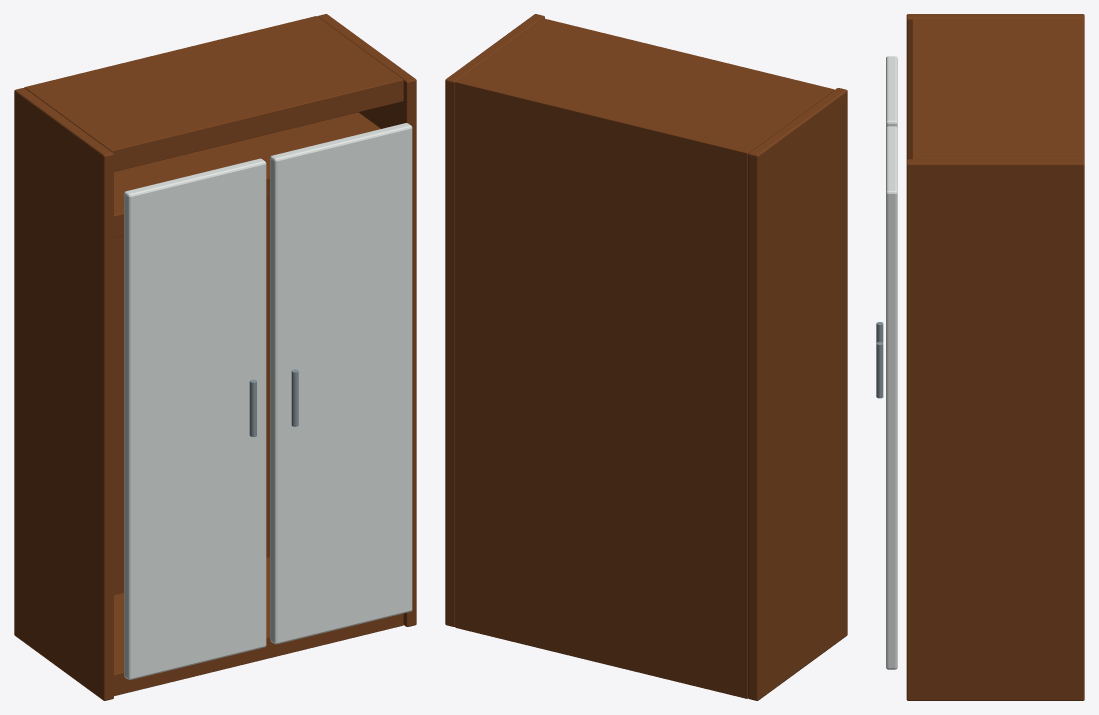
3 renders of one model, left to right at view 1: azimuth 30°, elevation 25°; view 2: azimuth 150°, elevation 25°; view 3: azimuth 270°, elevation 25°, orthographic.
Visible parts, largest first — view 1: DOOR_Panel.001, DOOR_Panel, BODY_Side.001, BODY_Shelf, BODY_Shelf.002, BODY_Back, BODY_Shelf.001, BODY_Side; view 2: BODY_Back, BODY_Side.001, BODY_Shelf, BODY_Side; view 3: BODY_Side, BODY_Shelf, DOOR_Panel.001, BODY_Side.001, BODY_Back, DOOR_Panel, HANDLE.001.
Boxes of the visible parts, <box> form: DOOR_Panel.001: <box>270,123,412,644</box>; DOOR_Panel: <box>124,158,266,679</box>; BODY_Side.001: <box>14,88,113,700</box>; BODY_Shelf: <box>28,18,403,171</box>; BODY_Shelf.002: <box>114,112,380,237</box>; BODY_Back: <box>24,16,318,594</box>; BODY_Shelf.001: <box>114,557,403,695</box>; BODY_Side: <box>317,14,416,626</box>; BODY_Back: <box>455,79,752,698</box>; BODY_Side.001: <box>748,88,847,700</box>; BODY_Shelf: <box>459,18,834,150</box>; BODY_Side: <box>445,14,544,626</box>; BODY_Side: <box>906,159,1084,700</box>; BODY_Shelf: <box>912,18,1077,159</box>; DOOR_Panel.001: <box>886,126,897,669</box>; BODY_Side.001: <box>906,14,1084,159</box>; BODY_Back: <box>1073,18,1084,160</box>; DOOR_Panel: <box>886,56,897,127</box>; HANDLE.001: <box>876,342,883,398</box>.
Bounding box in the file's own units: 1.2 × 2 × 0.702.
